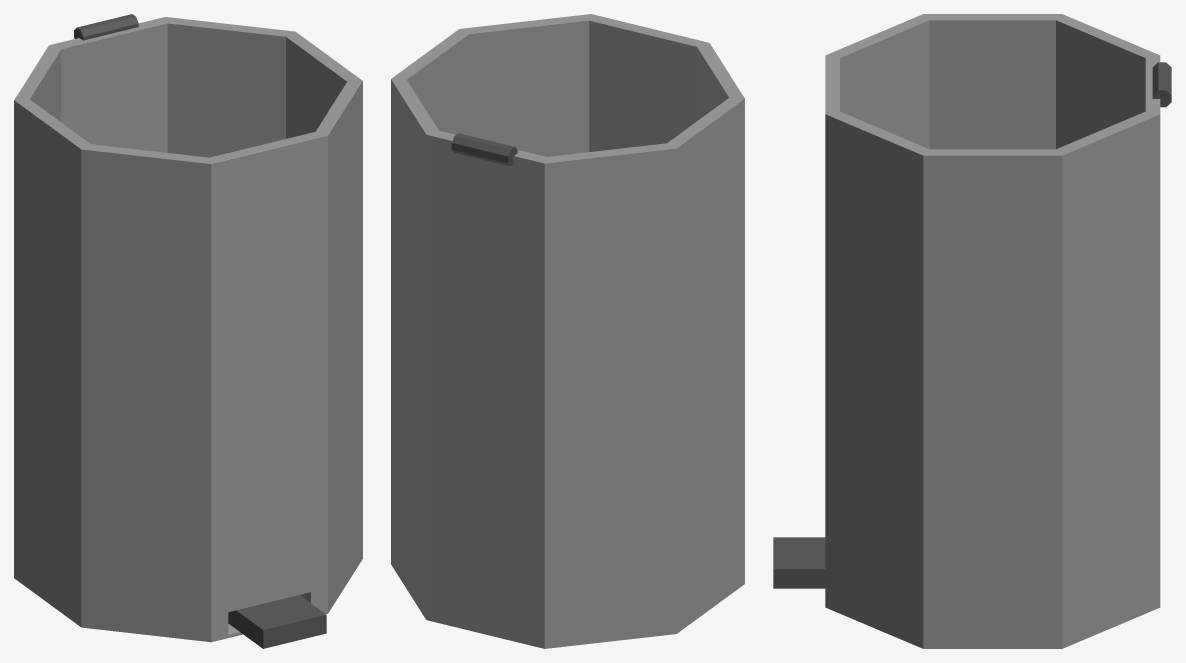
Rendered from Bin_01.fbx.
3 views of the same model, side by side, from view 1: azimuth 30°, elevation 25°; view 2: azimuth 150°, elevation 25°; view 3: azimuth 270°, elevation 25° (orthographic). The views are drawn at different scales.
Visible parts, largest first — view 1: Bin_01; view 2: Bin_01; view 3: Bin_01.
Part boxes in pixels (x1=…): Bin_01: x1=14, y1=14, x2=362, y2=648; Bin_01: x1=391, y1=14, x2=744, y2=648; Bin_01: x1=773, y1=14, x2=1171, y2=648.
Bounding box in the file's own units: 23.1 × 38.16 × 27.45.
